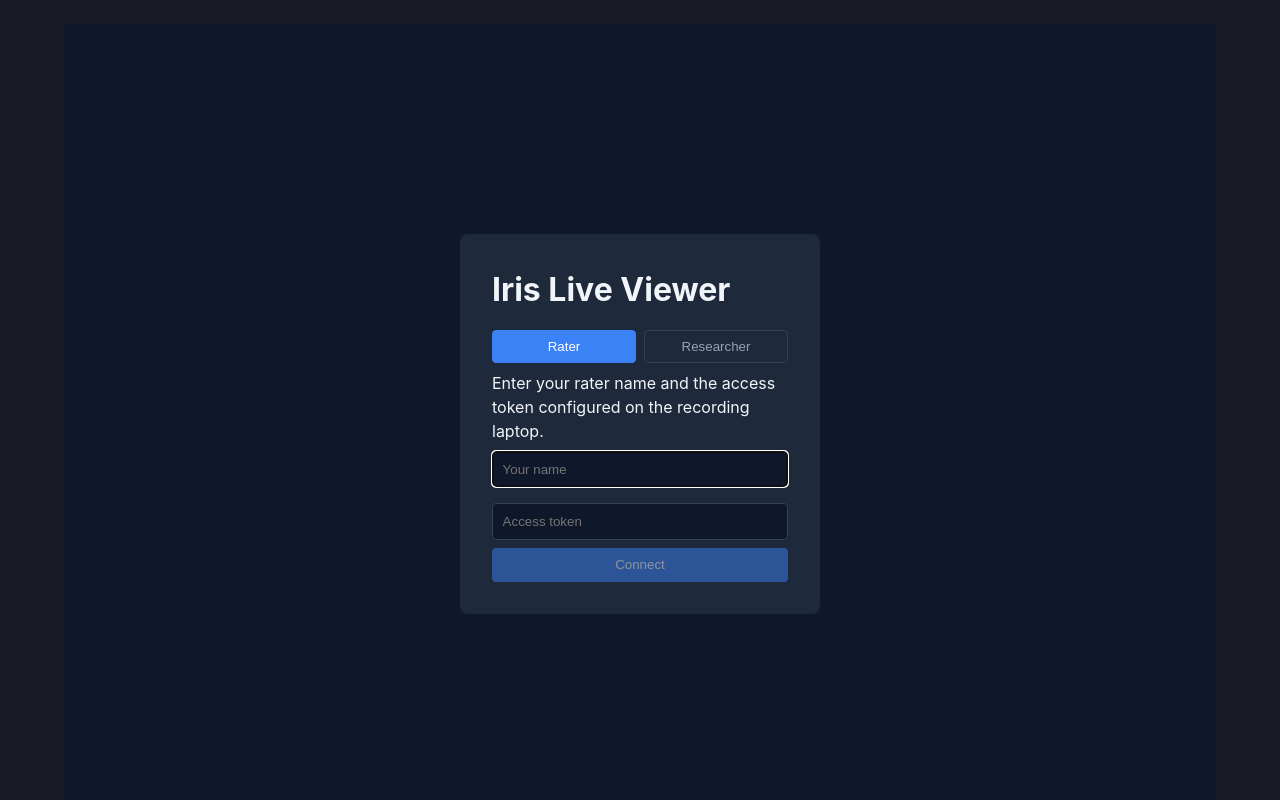
Test case: LoginScreen › hides the rater name field when researcher mode is selected
What coordinates should you click on to do the following:
click the tab "Researcher"
I would click on:
 (716, 347)
Its box is x1=644 y1=330 x2=788 y2=363.
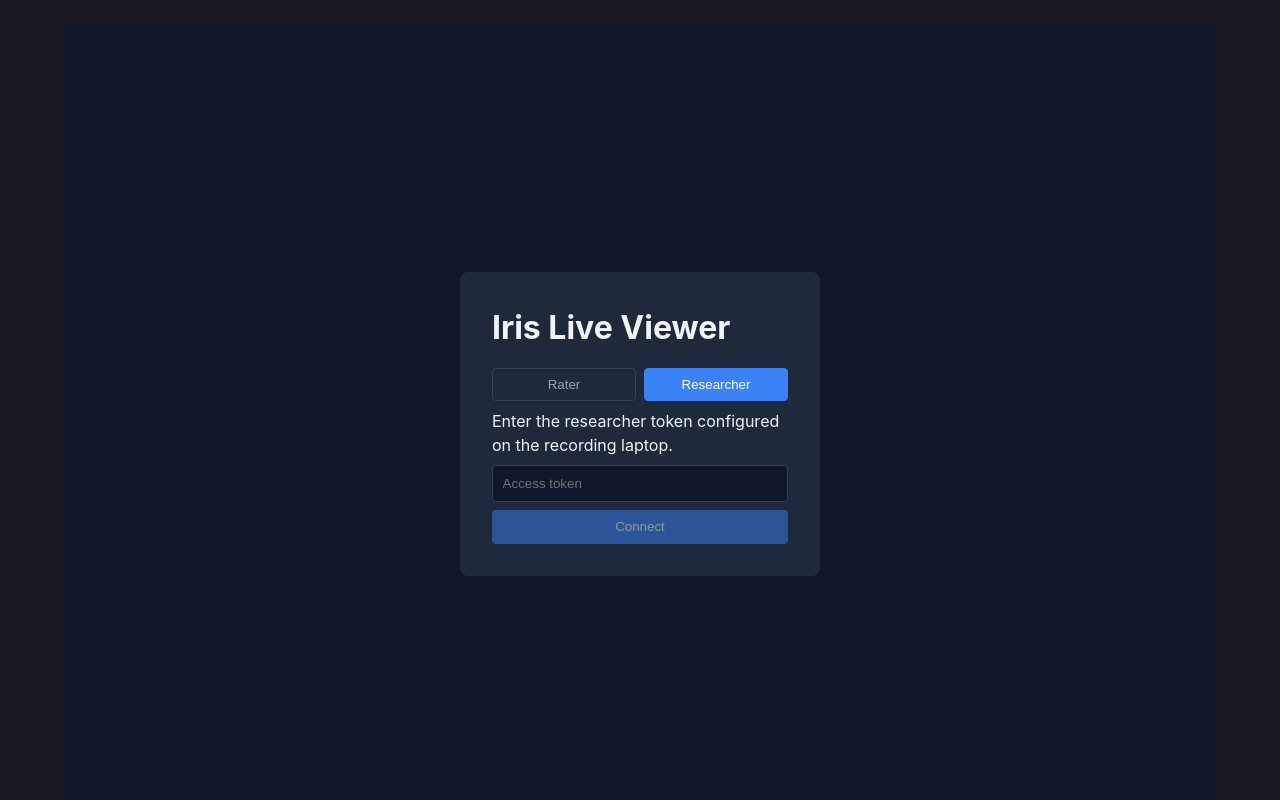
Check: the text labelled "rater name" is gone
